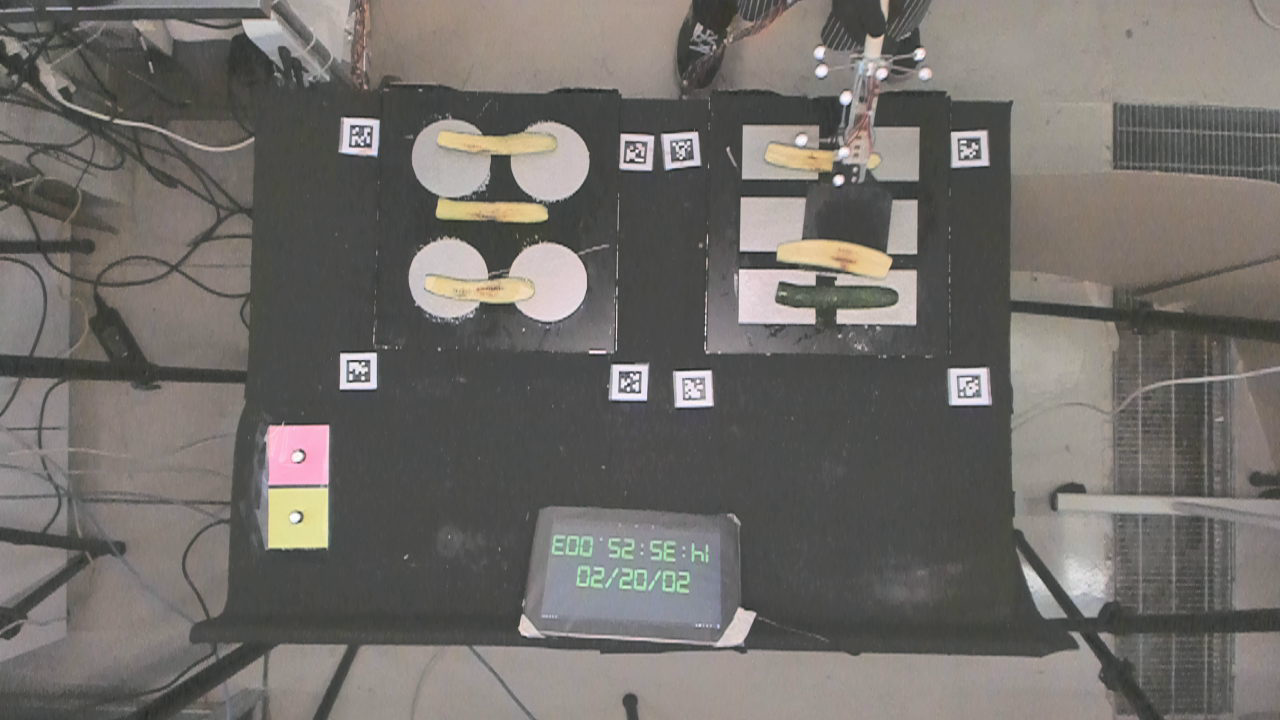marker: (267, 425, 330, 486)
zucchini: (756, 133, 881, 172), (780, 238, 890, 280), (437, 124, 558, 162), (418, 271, 543, 306), (429, 194, 549, 228), (775, 282, 901, 311)
